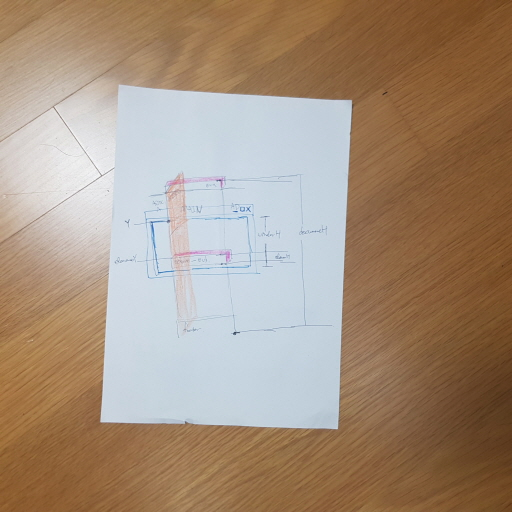Paper_2: (98, 80, 364, 442)
